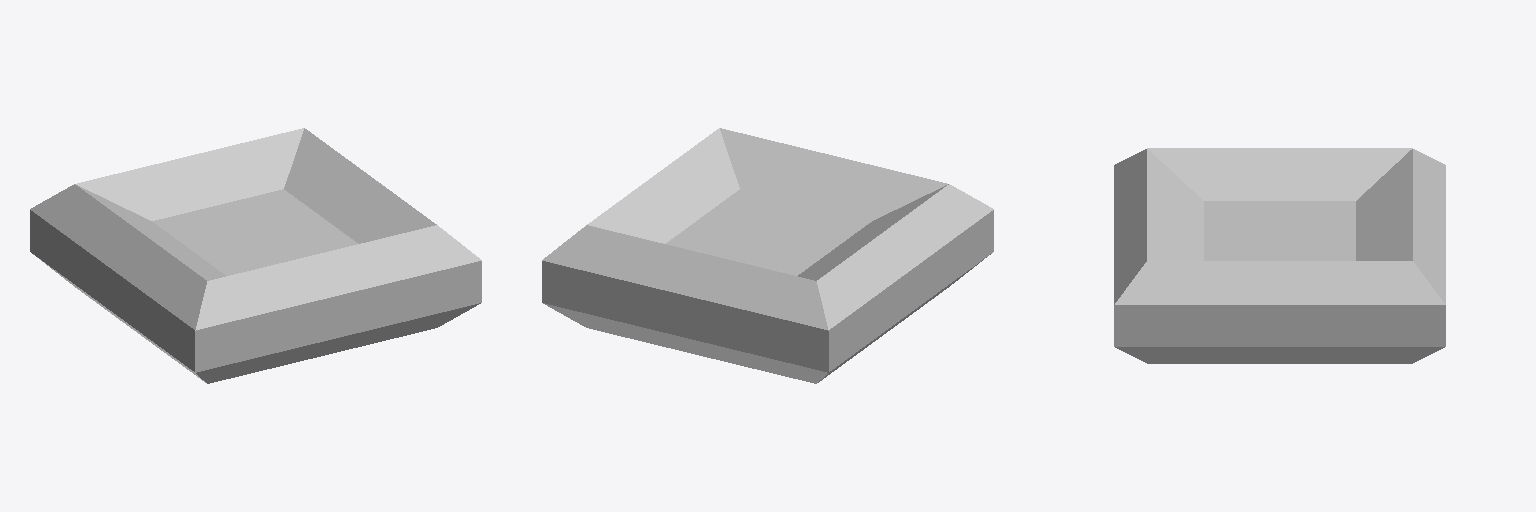
File: CoughDrop.obj
The picture shows the model from 3 angles: view 1: azimuth 30°, elevation 25°; view 2: azimuth 150°, elevation 25°; view 3: azimuth 270°, elevation 25°; orthographic projection.
Visible parts, largest first — view 1: CoughDrop; view 2: CoughDrop; view 3: CoughDrop.
Boxes of the visible parts, box(x1,y1,x2,y2) form: CoughDrop: box(30, 128, 481, 383); CoughDrop: box(542, 128, 993, 383); CoughDrop: box(1114, 148, 1445, 363).
Bounding box in the file's own units: 1.28 × 0.438 × 1.28.